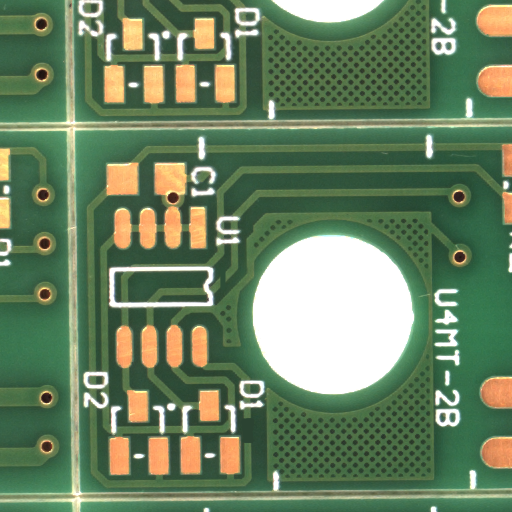Open_circuit: (246, 430, 256, 457), (222, 281, 231, 302)
